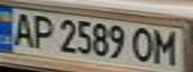2: (54, 16, 78, 54)
5: (72, 19, 93, 56)
8: (90, 20, 112, 57)
9: (106, 22, 130, 61)
A: (6, 10, 39, 47)
M: (151, 27, 184, 65)
O: (127, 26, 160, 63)
P: (27, 12, 57, 51)
